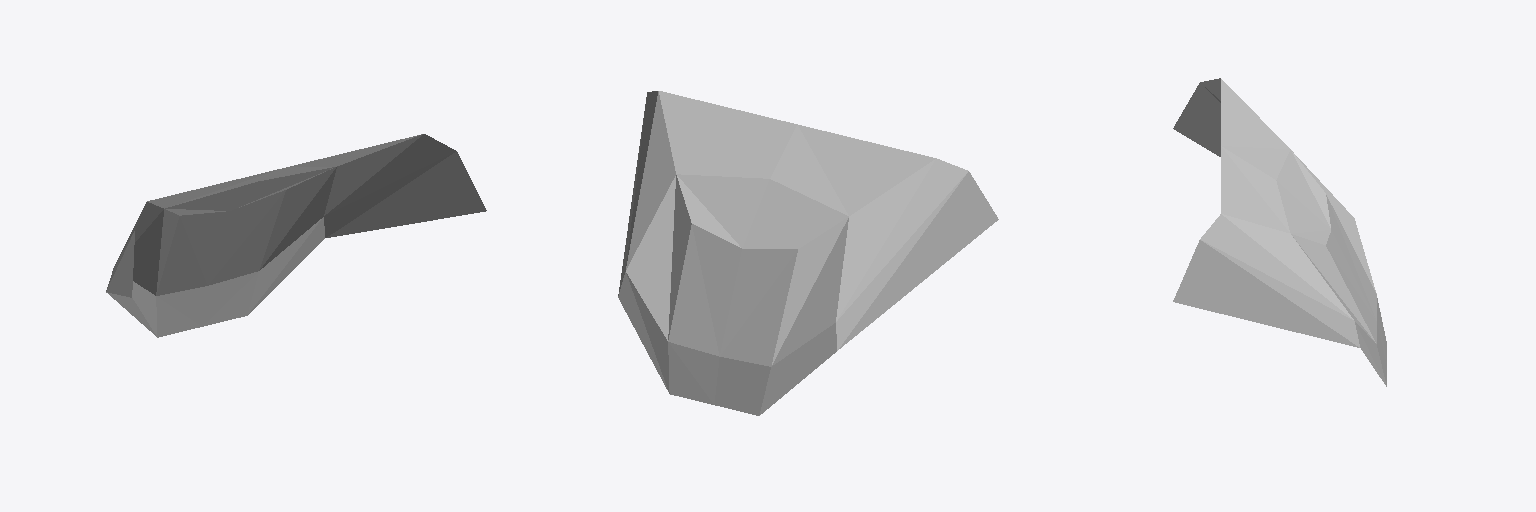
File: mask.obj
3 views of the same model, side by side, from view 1: azimuth 30°, elevation 25°; view 2: azimuth 150°, elevation 25°; view 3: azimuth 270°, elevation 25° (orthographic).
Parts seen in each view (by area): view 1: Cube.001_Cube.001; view 2: Cube.001_Cube.001; view 3: Cube.001_Cube.001.
Part boxes in pixels (x1,y1,x2,y2): Cube.001_Cube.001: (106,134,486,337); Cube.001_Cube.001: (618,91,998,415); Cube.001_Cube.001: (1173,78,1386,386).
Size of the model in its own units: 2.54 by 1.5 by 1.33.